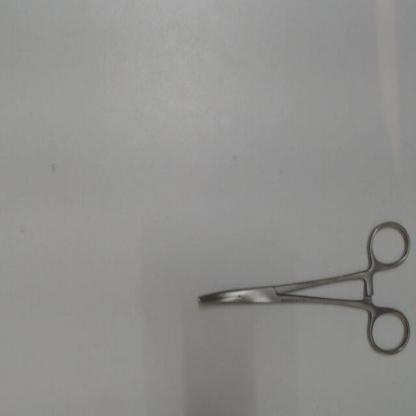Crile Artery Forceps: (186, 210, 415, 367)
